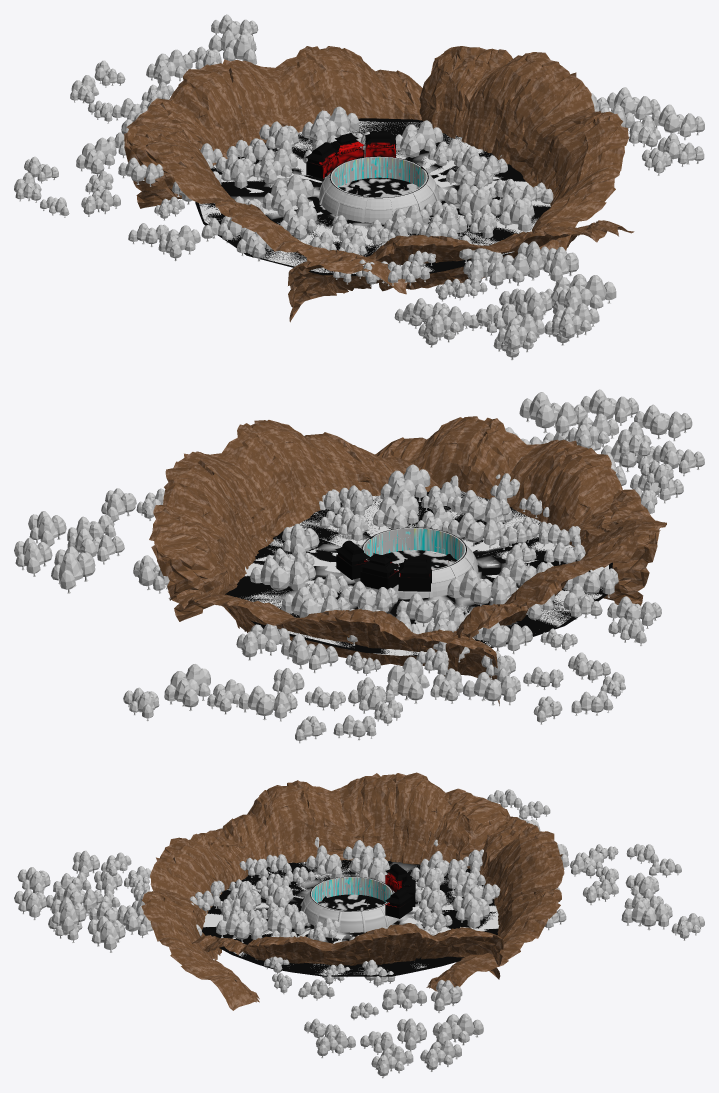
File: TutorialMap.fbx
3 views of the same model, one above another, from view 1: azimuth 30°, elevation 25°; view 2: azimuth 150°, elevation 25°; view 3: azimuth 270°, elevation 25° (orthographic). The views are drawn at different scales.
Parts seen in each view (by area): view 1: SM_ENV_TCHEXA_FaceRock_BG_A_04.mo, SM_ENV_TCHEXA_FaceRock_BG_A_04.mo.002, MERGED_SM_ENV_KNVLLG_Tree_Distance_A4.mo.002, MERGED_SM_ENV_KNVLLG_Tree_Distance_A4.mo.003, MERGED_SM_ENV_KNVLLG_Tree_Distance_A4.mo.001, MERGED_SM_ENV_KNVLLG_Tree_Distance_A4.mo.004, MERGED_SM_ENV_KNVLLG_Tree_Distance_A4.mo, SM_ENV_TCHEXA_FaceRock_BG_A_03.mo.001, SM_ENV_TCHEXA_FaceRock_BG_A_03.mo, SM_ENV_TCHEXA_ArenaGround_Ab.mo, SM_ENV_TCHEXA_ArenaGround_A_COL.mo, SM_ENV_TCHEXA_ArenaGround_Aa.mo (+8 smaller); view 2: SM_ENV_TCHEXA_FaceRock_BG_A_04.mo, SM_ENV_TCHEXA_FaceRock_BG_A_03.mo.001, MERGED_SM_ENV_KNVLLG_Tree_Distance_A4.mo.003, MERGED_SM_ENV_KNVLLG_Tree_Distance_A4.mo.001, MERGED_SM_ENV_KNVLLG_Tree_Distance_A4.mo.002, MERGED_SM_ENV_KNVLLG_Tree_Distance_A4.mo, SM_ENV_TCHEXA_FaceRock_BG_A_04.mo.002, MERGED_SM_ENV_KNVLLG_Tree_Distance_A4.mo.004, SM_ENV_TCHEXA_ArenaGround_Ab.mo, SM_ENV_TCHEXA_FaceRock_BG_A_03.mo, SM_ENV_TCHEXA_ArenaGround_A_COL.mo, SM_ENV_TCHEXA_ArenaWall_A_COL.mo (+6 smaller); view 3: SM_ENV_TCHEXA_FaceRock_BG_A_03.mo, MERGED_SM_ENV_KNVLLG_Tree_Distance_A4.mo, SM_ENV_TCHEXA_FaceRock_BG_A_03.mo.001, SM_ENV_TCHEXA_FaceRock_BG_A_04.mo.002, MERGED_SM_ENV_KNVLLG_Tree_Distance_A4.mo.002, MERGED_SM_ENV_KNVLLG_Tree_Distance_A4.mo.001, SM_ENV_TCHEXA_FaceRock_BG_A_04.mo, MERGED_SM_ENV_KNVLLG_Tree_Distance_A4.mo.004, SM_ENV_TCHEXA_ArenaGround_Ab.mo, MERGED_SM_ENV_KNVLLG_Tree_Distance_A4.mo.003, SM_ENV_TCHEXA_ArenaGround_A_COL.mo, SM_ENV_TCHEXA_ArenaWall_D.mo.003 (+4 smaller).
Part boxes in pixels (x1,y1,x2,y2): SM_ENV_TCHEXA_FaceRock_BG_A_04.mo: (419,46,628,250); SM_ENV_TCHEXA_FaceRock_BG_A_04.mo.002: (124,46,422,208); MERGED_SM_ENV_KNVLLG_Tree_Distance_A4.mo.002: (339,179,616,352); MERGED_SM_ENV_KNVLLG_Tree_Distance_A4.mo.003: (14,98,317,261); MERGED_SM_ENV_KNVLLG_Tree_Distance_A4.mo.001: (70,14,359,187); MERGED_SM_ENV_KNVLLG_Tree_Distance_A4.mo.004: (310,164,588,360); MERGED_SM_ENV_KNVLLG_Tree_Distance_A4.mo: (355,87,704,203); SM_ENV_TCHEXA_FaceRock_BG_A_03.mo.001: (288,220,634,322); SM_ENV_TCHEXA_FaceRock_BG_A_03.mo: (132,120,407,294); SM_ENV_TCHEXA_ArenaGround_Ab.mo: (195,118,550,275); SM_ENV_TCHEXA_ArenaGround_A_COL.mo: (199,121,550,273); SM_ENV_TCHEXA_ArenaGround_Aa.mo: (312,177,445,226); SM_ENV_TCHEXA_FaceRock_BG_A_04.mo: (149,420,441,621); SM_ENV_TCHEXA_FaceRock_BG_A_03.mo.001: (375,416,659,605); MERGED_SM_ENV_KNVLLG_Tree_Distance_A4.mo.003: (348,558,661,724); MERGED_SM_ENV_KNVLLG_Tree_Distance_A4.mo.001: (123,581,474,743); MERGED_SM_ENV_KNVLLG_Tree_Distance_A4.mo.002: (338,389,704,549); MERGED_SM_ENV_KNVLLG_Tree_Distance_A4.mo: (14,488,359,599); SM_ENV_TCHEXA_FaceRock_BG_A_04.mo.002: (168,589,499,705); MERGED_SM_ENV_KNVLLG_Tree_Distance_A4.mo.004: (332,427,683,568); SM_ENV_TCHEXA_ArenaGround_Ab.mo: (225,488,612,655); SM_ENV_TCHEXA_FaceRock_BG_A_03.mo: (444,515,666,675); SM_ENV_TCHEXA_ArenaGround_A_COL.mo: (240,491,608,655); SM_ENV_TCHEXA_ArenaWall_A_COL.mo: (362,527,466,570); SM_ENV_TCHEXA_FaceRock_BG_A_03.mo: (222,772,511,881); MERGED_SM_ENV_KNVLLG_Tree_Distance_A4.mo: (264,907,483,1078); SM_ENV_TCHEXA_FaceRock_BG_A_03.mo.001: (141,828,259,1010); SM_ENV_TCHEXA_FaceRock_BG_A_04.mo.002: (426,816,564,991); MERGED_SM_ENV_KNVLLG_Tree_Distance_A4.mo.002: (14,850,297,942); MERGED_SM_ENV_KNVLLG_Tree_Distance_A4.mo.001: (410,844,704,940); SM_ENV_TCHEXA_FaceRock_BG_A_04.mo: (192,923,503,979); MERGED_SM_ENV_KNVLLG_Tree_Distance_A4.mo.004: (46,854,340,952); SM_ENV_TCHEXA_ArenaGround_Ab.mo: (202,860,498,976); MERGED_SM_ENV_KNVLLG_Tree_Distance_A4.mo.003: (306,789,603,883); SM_ENV_TCHEXA_ArenaGround_A_COL.mo: (203,860,499,975); SM_ENV_TCHEXA_ArenaWall_D.mo.003: (317,906,388,932).
Size of the model in its own units: 94476 by 16974 by 108487.
